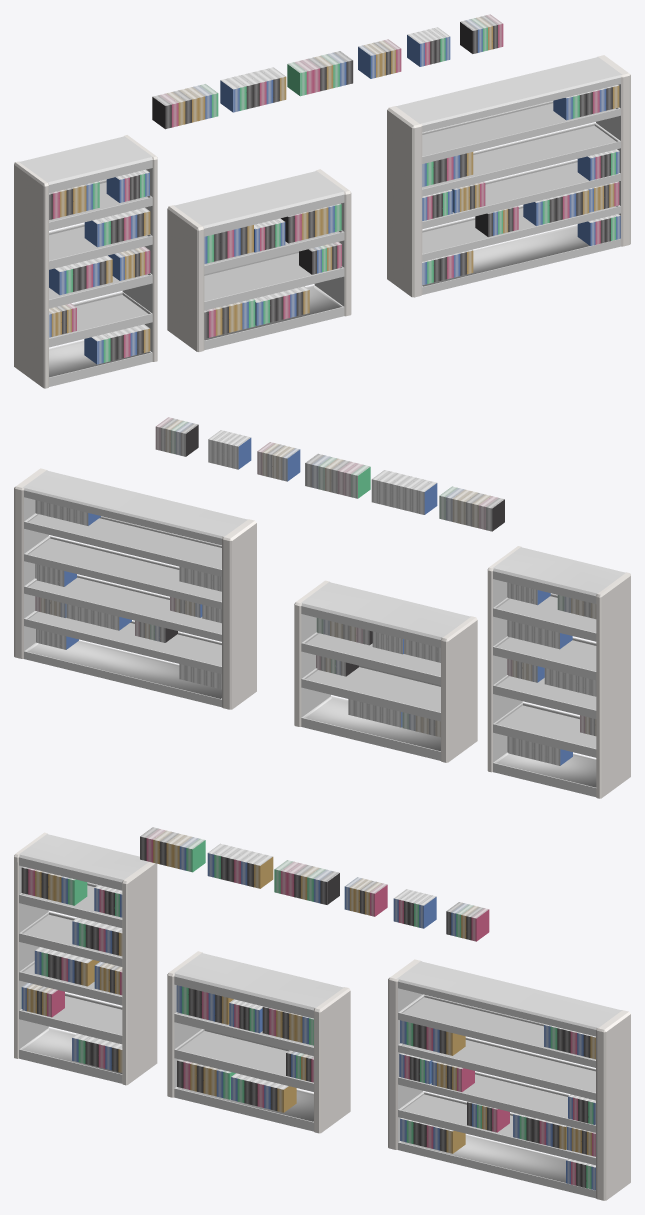
Rendered from bookcase.fbx.
3 renders of one model, top to bottom at view 1: azimuth 30°, elevation 25°; view 2: azimuth 150°, elevation 25°; view 3: azimuth 330°, elevation 25°, orthographic.
Visible parts, largest first — view 1: cabinet_b, cabinet1, cabinet_a, Cube.011, Cube.009, Cube.010, Cube.007, Cube.003, Cube.004, Cube.024, Cube.016, Cube.019 (+20 smaller); view 2: cabinet_b, cabinet1, cabinet_a, Cube.010, Cube.011, Cube.009, Cube.012, Cube.013, Cube.008, Cube.007, Cube.003, Cube.019 (+15 smaller); view 3: cabinet_b, cabinet1, cabinet_a, Cube.010, Cube.011, Cube.009, Cube.019, Cube.001, Cube.004, Cube.017, Cube.014, Cube.021 (+20 smaller).
Part boxes in pixels (x1,y1,x2,y2): cabinet_b: [387, 55, 630, 297]; cabinet1: [14, 135, 157, 388]; cabinet_a: [167, 169, 351, 351]; Cube.011: [152, 84, 218, 129]; Cube.009: [287, 51, 353, 96]; Cube.010: [220, 67, 286, 112]; Cube.007: [84, 324, 150, 364]; Cube.003: [84, 207, 150, 247]; Cube.004: [49, 255, 112, 295]; Cube.024: [523, 189, 589, 225]; Cube.016: [281, 203, 341, 243]; Cube.019: [254, 286, 309, 325]; cabinet_b: [14, 468, 256, 709]; cabinet1: [487, 546, 630, 798]; cabinet_a: [294, 580, 477, 762]; Cube.010: [371, 470, 437, 514]; Cube.011: [439, 486, 504, 531]; Cube.009: [305, 453, 370, 498]; Cube.012: [208, 430, 251, 469]; Cube.013: [155, 417, 198, 456]; Cube.008: [257, 442, 300, 481]; Cube.007: [507, 736, 572, 765]; Cube.003: [507, 620, 572, 649]; Cube.019: [348, 699, 402, 727]; cabinet_b: [388, 959, 630, 1200]; cabinet1: [14, 832, 157, 1085]; cabinet_a: [167, 951, 350, 1133]; Cube.010: [207, 843, 273, 888]; Cube.011: [140, 827, 205, 872]; Cube.009: [274, 860, 339, 904]; Cube.019: [231, 1073, 296, 1112]; Cube.001: [21, 866, 87, 905]; Cube.004: [34, 947, 99, 986]; Cube.017: [177, 1059, 235, 1099]; Cube.014: [176, 985, 233, 1024]; Cube.021: [400, 1118, 465, 1153].
Bounding box in the file's own units: 2383 × 974 × 220.
